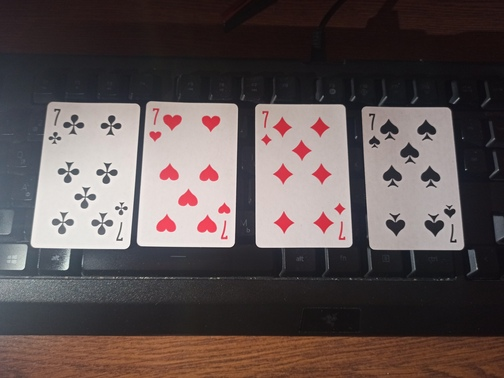sevenclubs: (30, 99, 134, 246)
sevendiamonds: (252, 101, 357, 251)
sevenhearts: (139, 96, 237, 249)
sevenspades: (359, 106, 471, 252)
